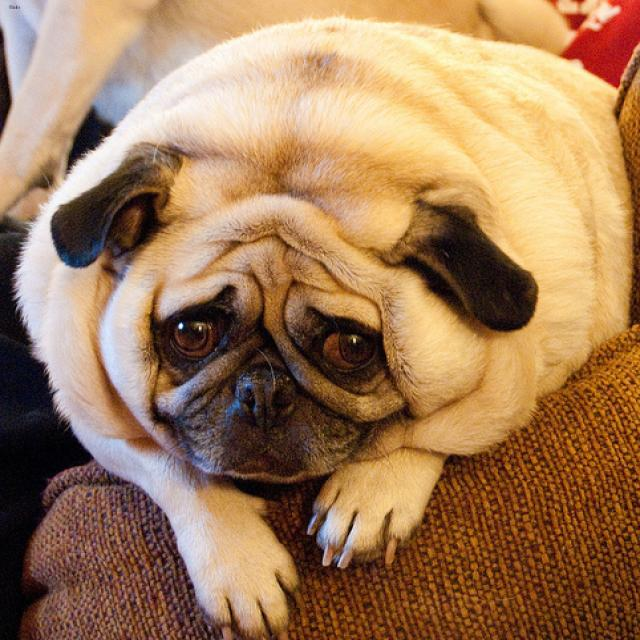dog-pug: (7, 1, 637, 637)
